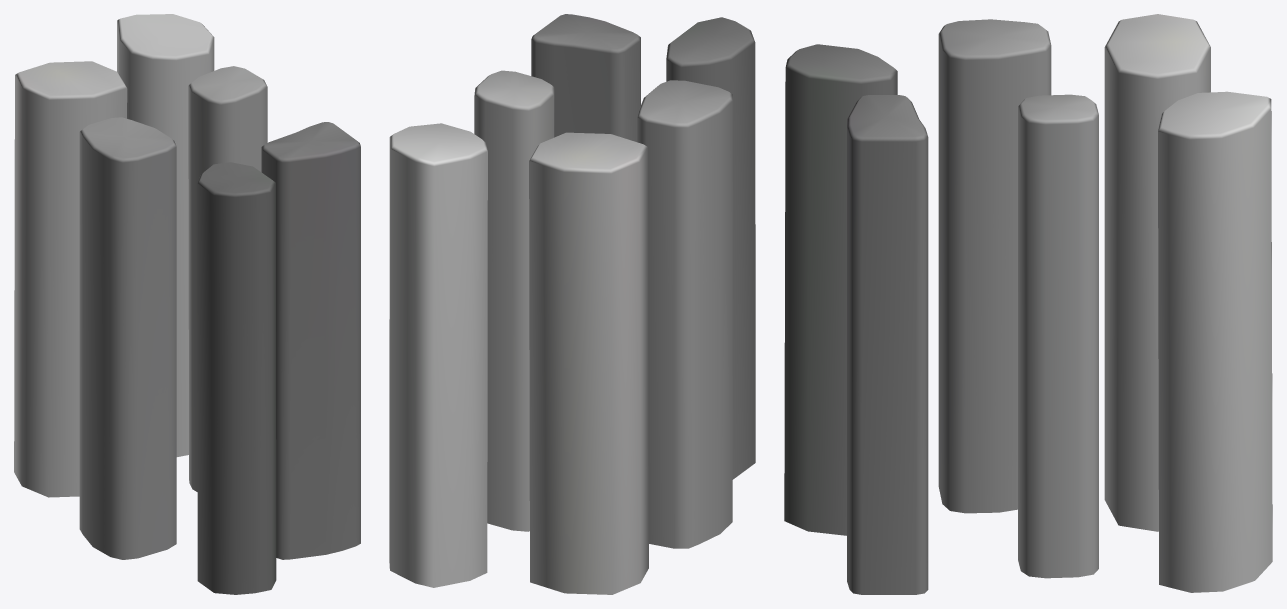
The model's file is M_Steppingstones_04.fbx.
3 views of the same model, side by side, from view 1: azimuth 30°, elevation 25°; view 2: azimuth 150°, elevation 25°; view 3: azimuth 270°, elevation 25° (orthographic). The views are drawn at different scales.
Visible parts, largest first — view 1: M_Steppingstones_04; view 2: M_Steppingstones_04; view 3: M_Steppingstones_04.
Part boxes in pixels (bbox=[...]): M_Steppingstones_04: bbox=[14, 14, 360, 594]; M_Steppingstones_04: bbox=[389, 14, 755, 594]; M_Steppingstones_04: bbox=[784, 14, 1272, 594].
Size of the model in its own units: 136 by 254 by 239.
1 material, 1 textured.
